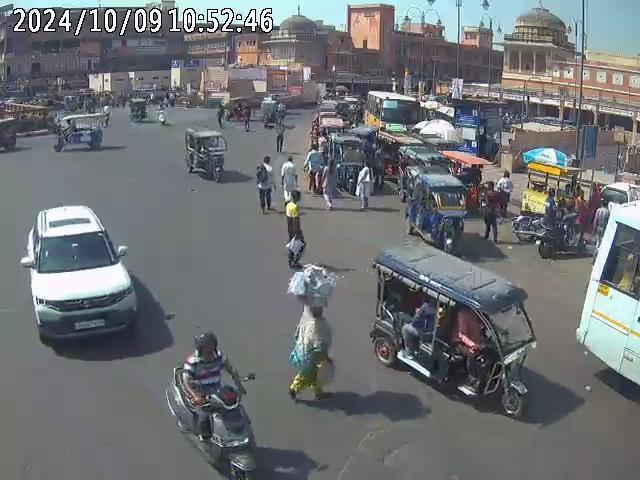auto: (367, 240, 537, 414), (404, 168, 468, 253), (182, 128, 227, 182), (53, 112, 106, 152), (334, 136, 364, 194), (129, 97, 149, 123)
bus: (575, 198, 640, 389)
car: (20, 205, 140, 351)
helmet: (192, 328, 219, 360)
license_plate: (73, 318, 109, 332)
motorbike: (510, 209, 545, 242)
person: (287, 302, 335, 404), (479, 181, 505, 244), (285, 188, 305, 268), (303, 144, 326, 196), (254, 156, 273, 214), (592, 193, 609, 250), (279, 155, 298, 204), (356, 158, 373, 212)
scooty-rider: (165, 328, 258, 477), (535, 188, 591, 257)
